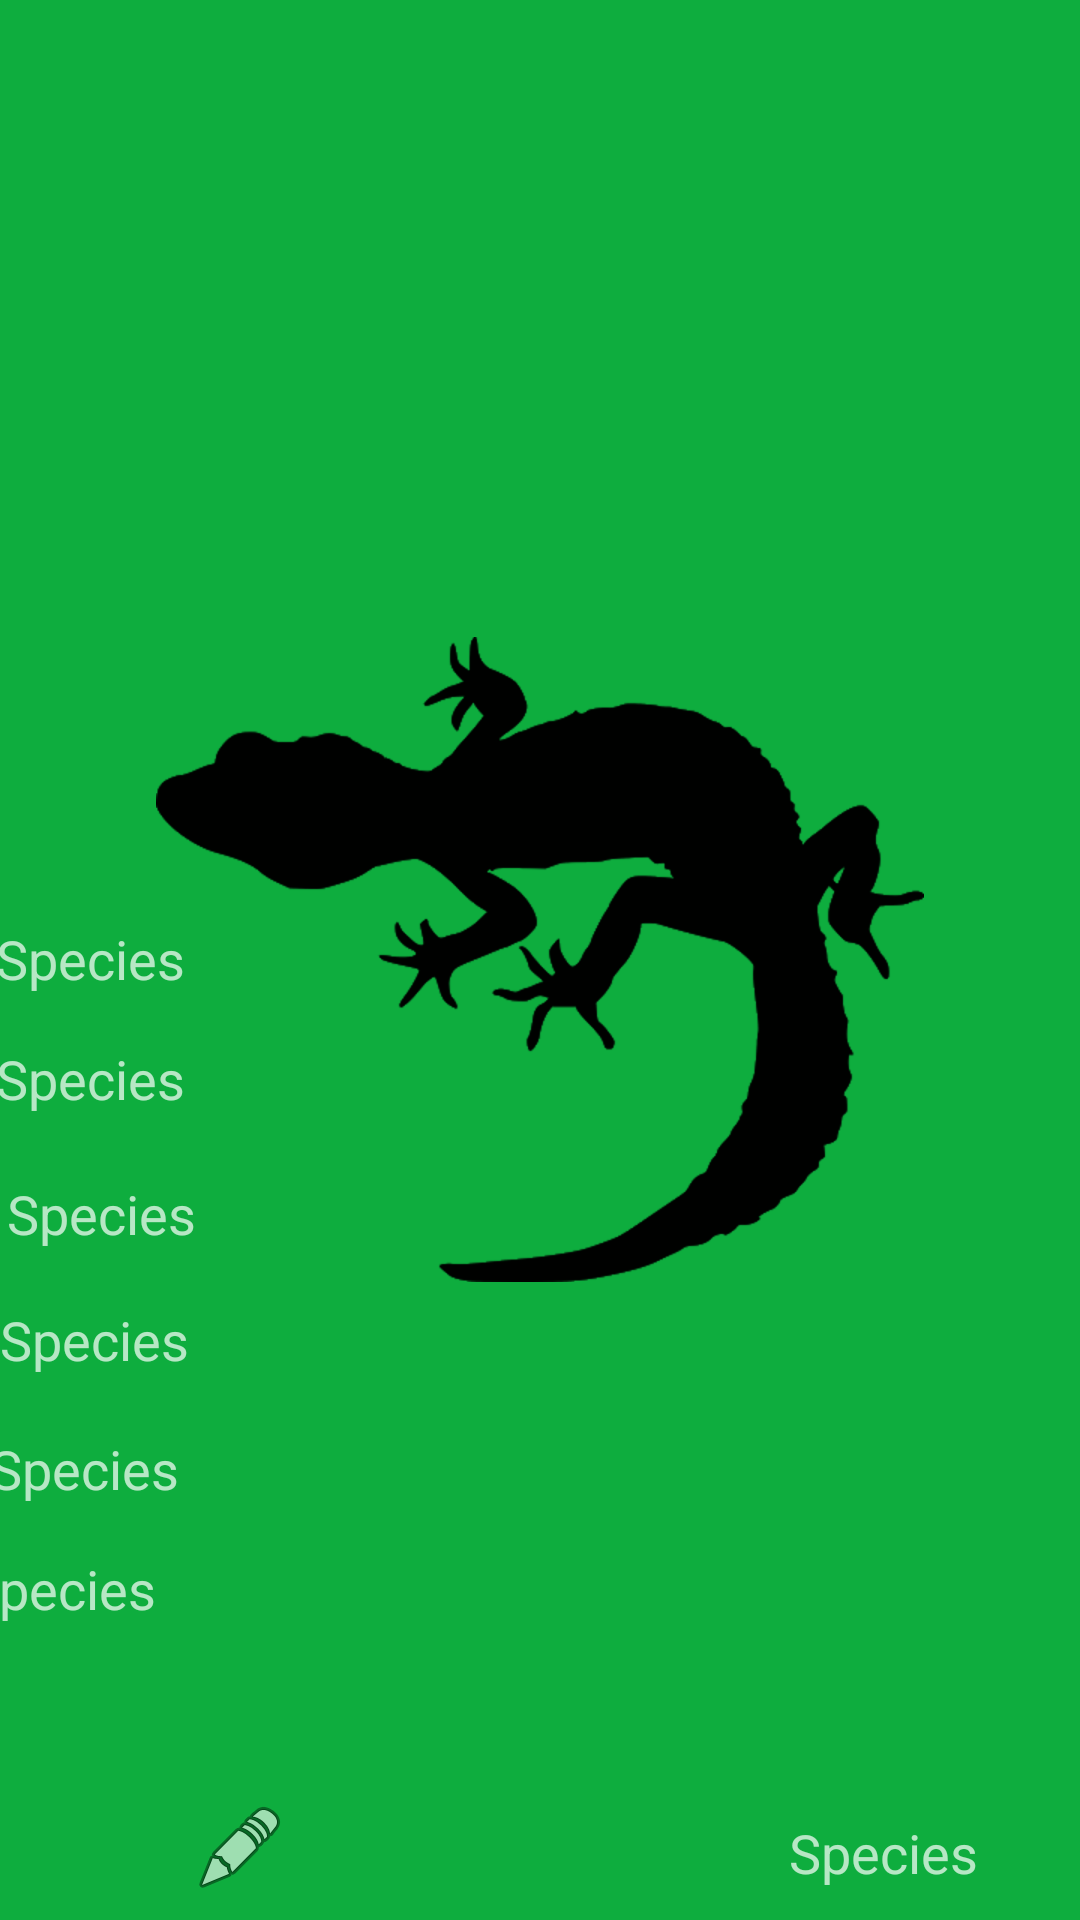

Where icons sit on this 1080*1920 app screen, as (x1, y1, x2, y2):
edit: (199, 1807, 280, 1888)
